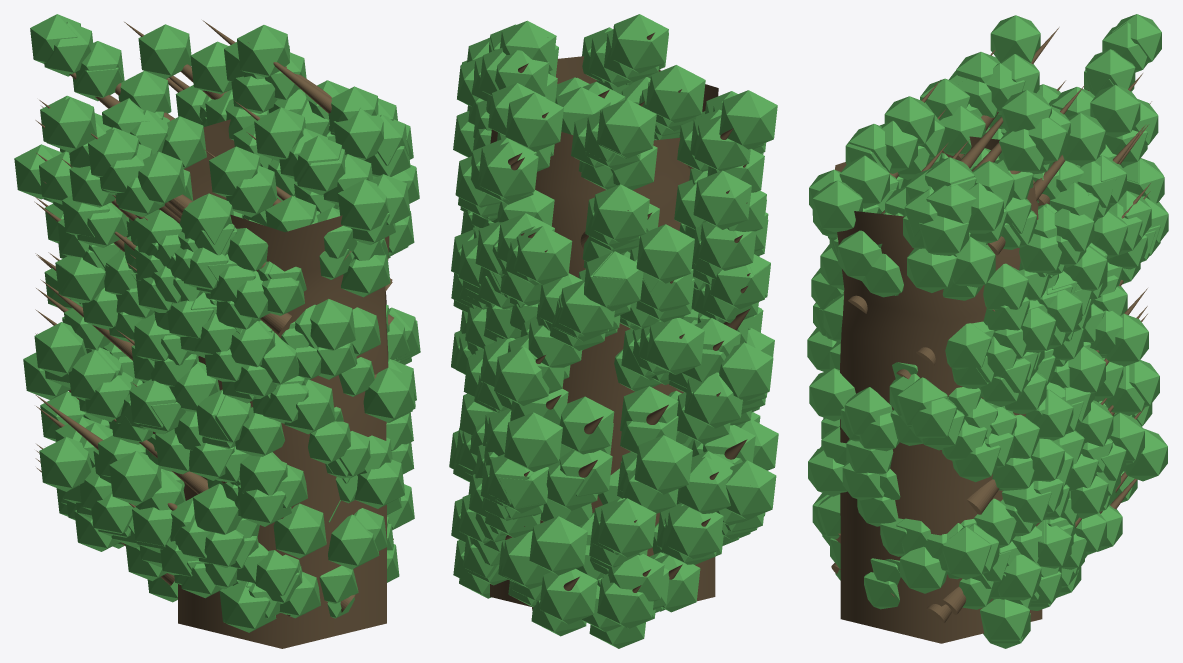
File: tree_var_6580.glb
3 views of the same model, side by side, from view 1: azimuth 30°, elevation 25°; view 2: azimuth 150°, elevation 25°; view 3: azimuth 270°, elevation 25° (orthographic). The views are drawn at different scales.
Parts seen in each view (by area): view 1: tree_var_6580; view 2: tree_var_6580; view 3: tree_var_6580.
Part boxes in pixels (x1,y1,x2,y2): tree_var_6580: [14, 14, 420, 648]; tree_var_6580: [449, 14, 778, 648]; tree_var_6580: [807, 14, 1168, 648].
Size of the model in its own units: 3.15 by 5.16 by 3.1.
